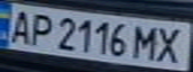1: (90, 18, 112, 55), (72, 16, 93, 54)
2: (51, 15, 78, 52)
6: (109, 20, 133, 57)
A: (3, 7, 36, 45)
M: (130, 22, 163, 61)
P: (24, 10, 57, 47)
X: (151, 25, 187, 65)
